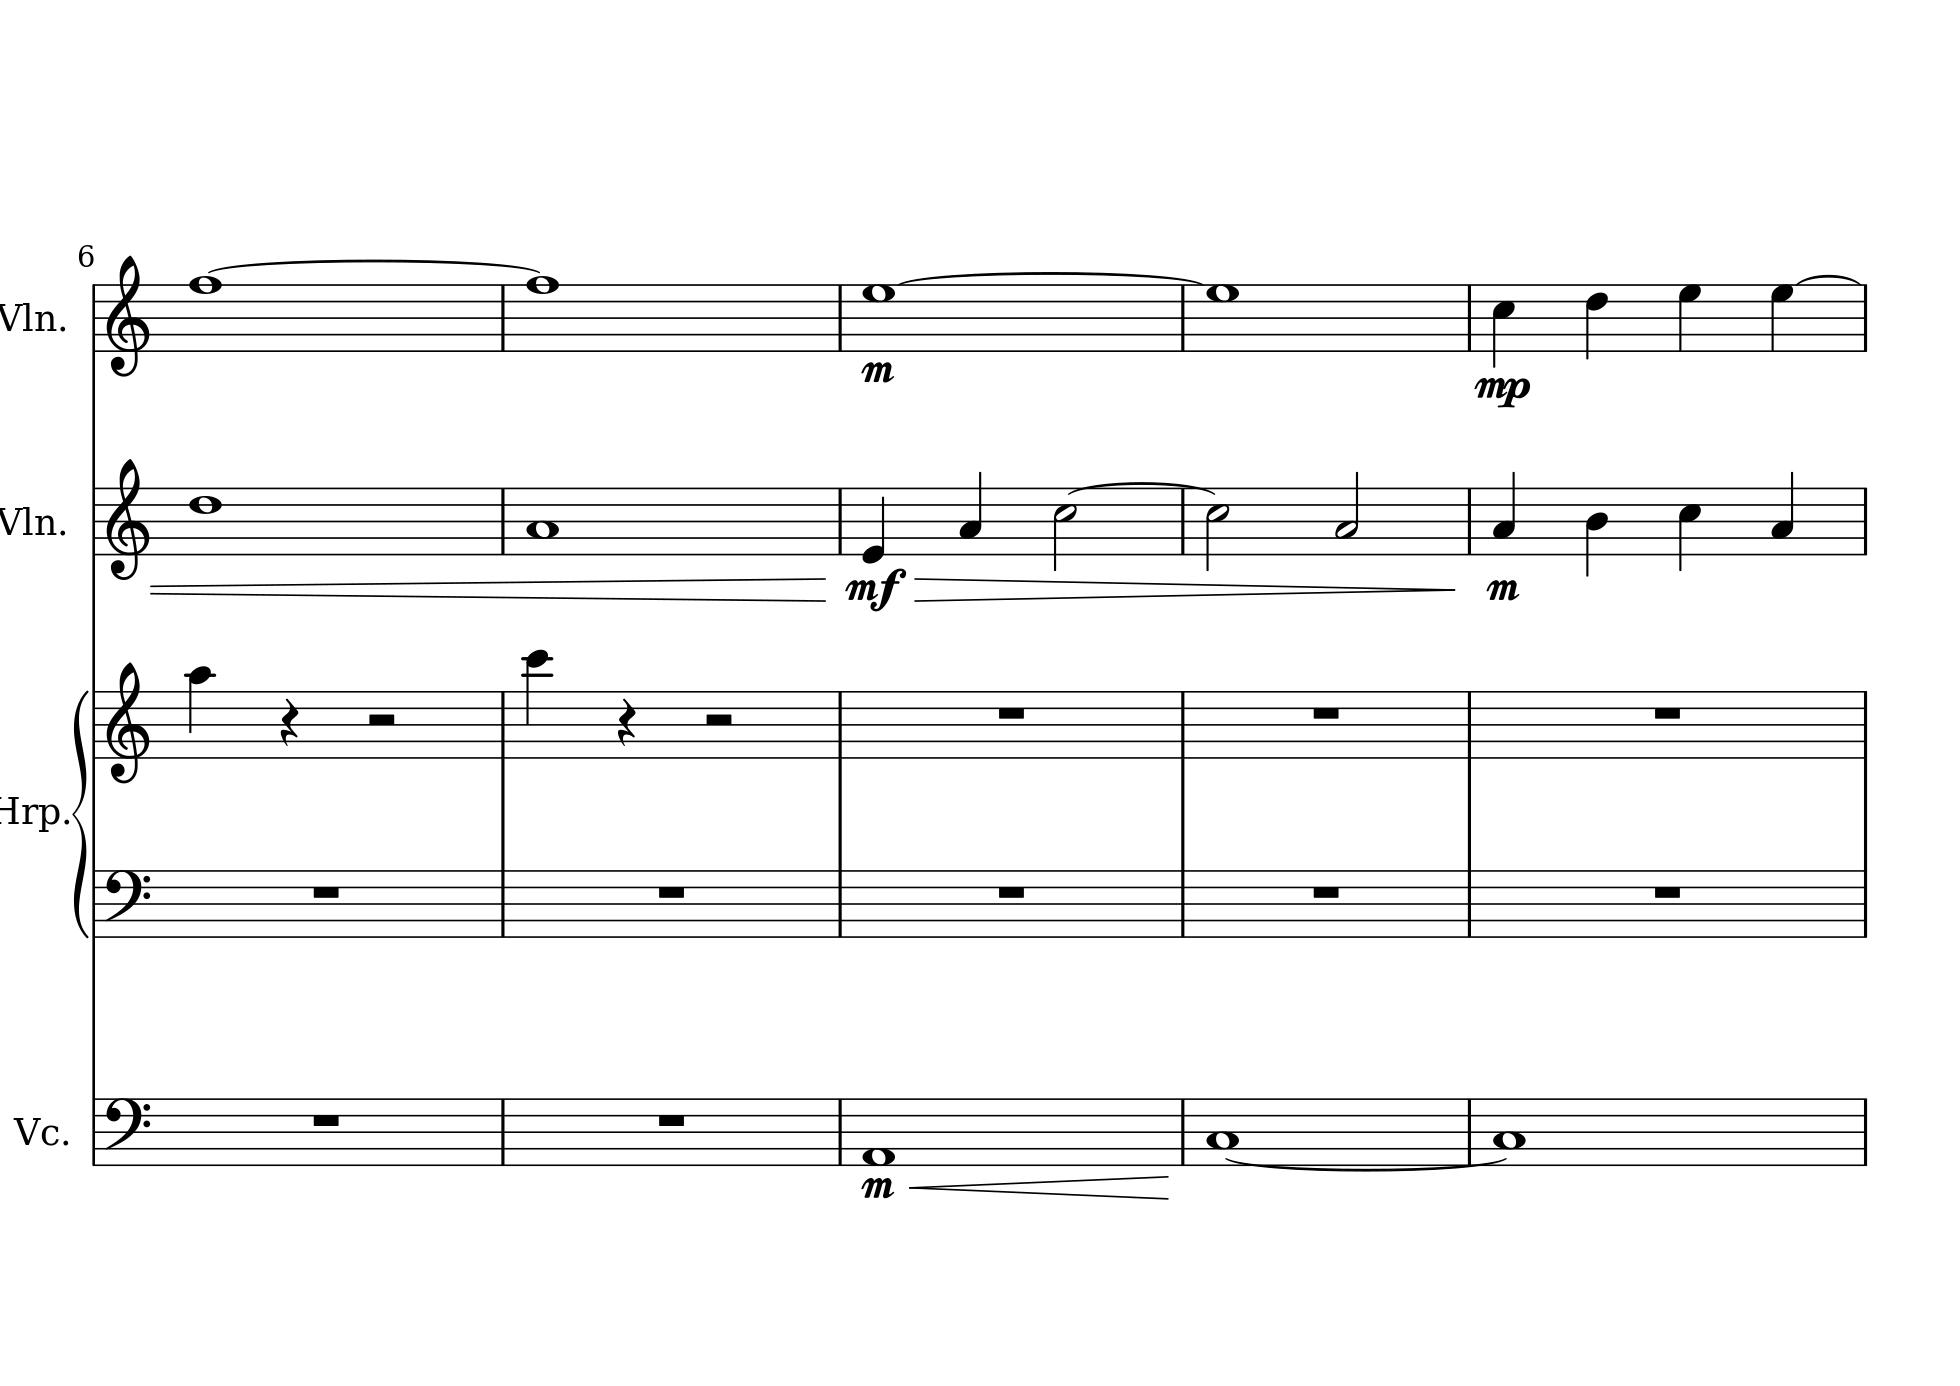1_1: (861, 1095, 895, 1170)
1_3: (525, 484, 559, 556), (1492, 1095, 1527, 1165), (1206, 1095, 1239, 1167)
1_6: (187, 484, 223, 558)
1_7: (1204, 283, 1240, 354), (861, 283, 897, 352)
1_8: (523, 273, 561, 355), (187, 271, 223, 355)
2_3: (1333, 469, 1362, 556)
2_5: (1053, 486, 1080, 571), (1204, 484, 1230, 571)
4_0: (861, 484, 886, 562)
4_10: (186, 664, 214, 762)
4_12: (523, 648, 552, 760)
4_3: (1770, 469, 1797, 556), (1492, 469, 1518, 556), (958, 469, 984, 555)
4_4: (1584, 486, 1609, 577)
4_5: (1677, 484, 1702, 573), (1491, 282, 1515, 367)
4_6: (1584, 282, 1609, 361)
4_7: (1768, 282, 1795, 354), (1677, 282, 1704, 352)
6: (76, 241, 96, 268)
Brace: (70, 685, 88, 937)
Crescendo_hairpin: (910, 1174, 1170, 1201)
Diminuendo_hairpin: (910, 576, 1456, 604)
Fclef: (102, 1095, 151, 1165), (103, 867, 151, 928)
Gclef: (103, 660, 154, 784), (103, 454, 151, 580), (103, 253, 151, 378)
Hrp: (1, 792, 58, 834)
Rests1: (307, 880, 343, 901), (1650, 880, 1686, 901), (654, 880, 688, 901), (654, 1110, 690, 1129), (994, 882, 1029, 901), (309, 1110, 343, 1129), (1308, 703, 1344, 721), (1650, 703, 1686, 721), (994, 703, 1029, 721), (1309, 882, 1344, 900)
Rests2: (361, 709, 399, 730), (699, 711, 736, 730)
Rests4: (277, 696, 301, 748), (615, 696, 639, 748)
Single_barline: (1857, 283, 1876, 349), (1173, 489, 1192, 555), (1461, 283, 1479, 351), (1461, 691, 1479, 757), (493, 871, 511, 937), (1174, 1098, 1192, 1164), (493, 285, 511, 349), (1461, 1098, 1479, 1162), (1173, 286, 1191, 349), (1857, 690, 1873, 757), (495, 1098, 511, 1165), (831, 283, 847, 349), (495, 487, 511, 553), (1857, 487, 1873, 553), (1461, 487, 1477, 553), (832, 691, 849, 757), (1174, 691, 1191, 757), (832, 1098, 849, 1164), (1857, 1098, 1873, 1164), (495, 691, 511, 756), (832, 487, 847, 555), (832, 870, 847, 937), (1176, 870, 1191, 937), (1462, 870, 1477, 937), (1857, 870, 1872, 937), (87, 487, 102, 553), (87, 283, 100, 352), (88, 868, 102, 937), (87, 1098, 100, 1164), (88, 690, 100, 757)
Slur: (204, 258, 544, 276), (898, 268, 1206, 285), (1227, 1156, 1509, 1173), (1068, 478, 1209, 498), (1794, 271, 1860, 285)
Vc: (9, 1111, 60, 1150)
Vln: (1, 295, 57, 340), (1, 499, 57, 544)
m: (1483, 574, 1521, 604), (858, 1176, 895, 1201)
mf: (843, 565, 909, 613)
mp: (1473, 373, 1533, 411), (859, 358, 895, 384)
